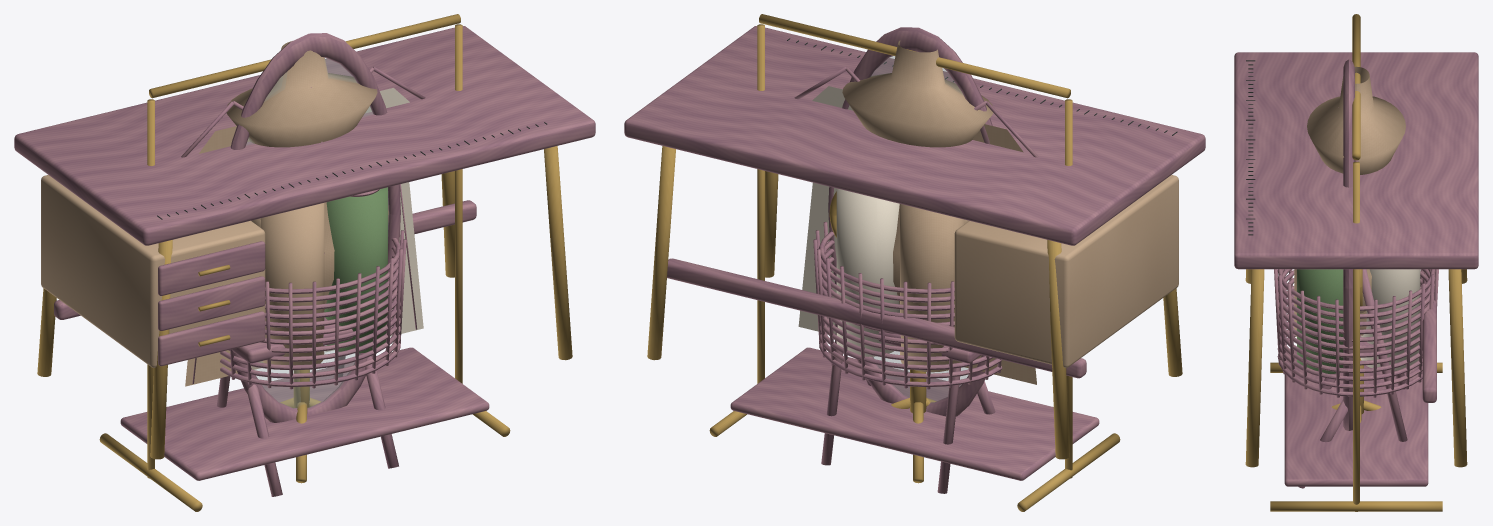
File: tidy-life-fashion.glb
3 views of the same model, side by side, from view 1: azimuth 30°, elevation 25°; view 2: azimuth 150°, elevation 25°; view 3: azimuth 270°, elevation 25° (orthographic). The views are drawn at different scales.
Visible parts, largest first — view 1: life_fashion_sewingdesk_mesh, life_fashion_garmentrack_mesh, life_fashion_fabricbasket_mesh, life_fashion_ovalmirror_mesh, life_fashion_dressform_mesh, life_fashion_sewingmachine_mesh; view 2: life_fashion_sewingdesk_mesh, life_fashion_garmentrack_mesh, life_fashion_fabricbasket_mesh, life_fashion_dressform_mesh, life_fashion_ovalmirror_mesh, life_fashion_sewingmachine_mesh; view 3: life_fashion_sewingdesk_mesh, life_fashion_garmentrack_mesh, life_fashion_fabricbasket_mesh, life_fashion_dressform_mesh, life_fashion_ovalmirror_mesh, life_fashion_sewingmachine_mesh.
Boxes of the visible parts, x1,y1,x2,y2 form: life_fashion_sewingdesk_mesh: (14,26,595,459); life_fashion_garmentrack_mesh: (99,14,510,511); life_fashion_fabricbasket_mesh: (220,187,406,389); life_fashion_ovalmirror_mesh: (216,33,400,496); life_fashion_dressform_mesh: (226,41,377,483); life_fashion_sewingmachine_mesh: (231,206,388,363); life_fashion_sewingdesk_mesh: (624,26,1205,459); life_fashion_garmentrack_mesh: (709,14,1120,511); life_fashion_fabricbasket_mesh: (813,188,1002,389); life_fashion_dressform_mesh: (842,40,993,483); life_fashion_ovalmirror_mesh: (821,27,995,493); life_fashion_sewingmachine_mesh: (829,191,981,363); life_fashion_sewingdesk_mesh: (1234,52,1478,467); life_fashion_garmentrack_mesh: (1270,14,1442,511); life_fashion_fabricbasket_mesh: (1274,269,1438,397); life_fashion_dressform_mesh: (1307,66,1405,422); life_fashion_ovalmirror_mesh: (1298,59,1407,488); life_fashion_sewingmachine_mesh: (1360,269,1406,352).
Bounding box in the file's own units: 0.67 × 0.61 × 0.34.
Materials: 8 (8 with a texture image).
